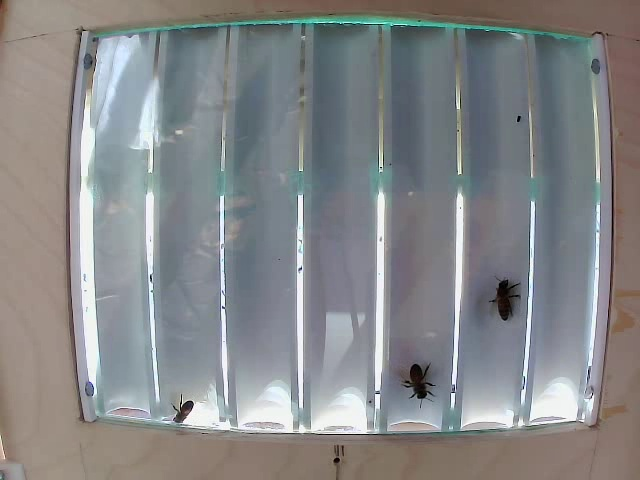bee: (485, 254, 533, 333), (397, 341, 427, 402), (174, 389, 213, 428)
